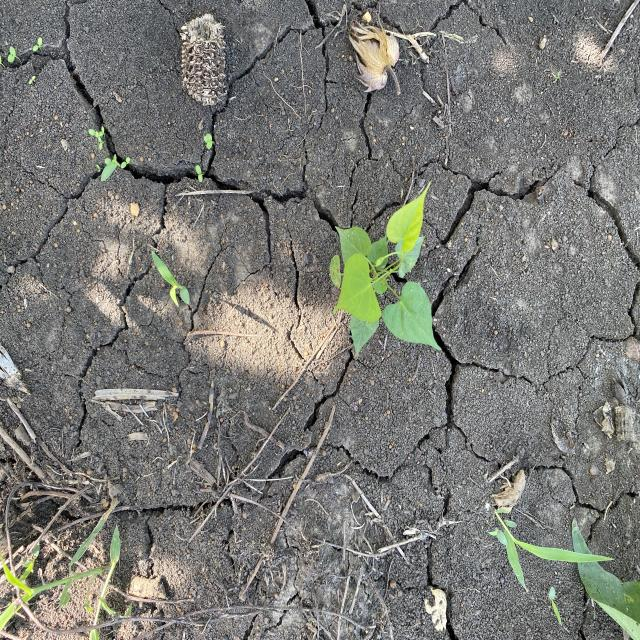MorningGlory: (327, 179, 443, 358)
